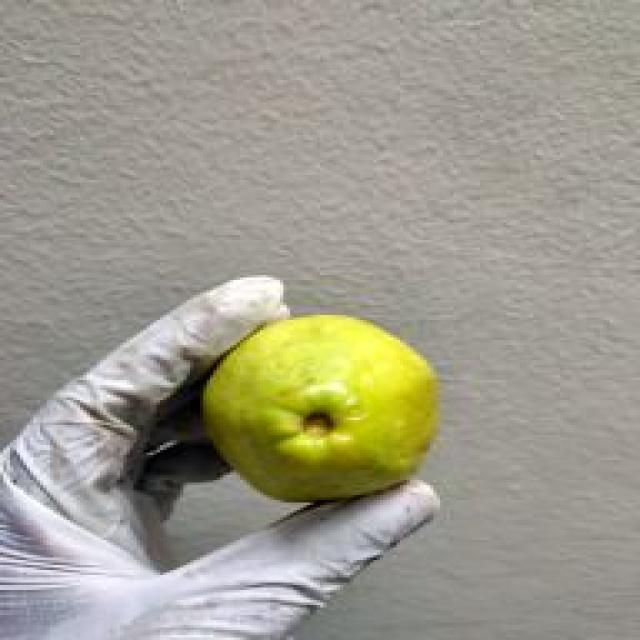Good_Guava: (200, 315, 440, 505)
